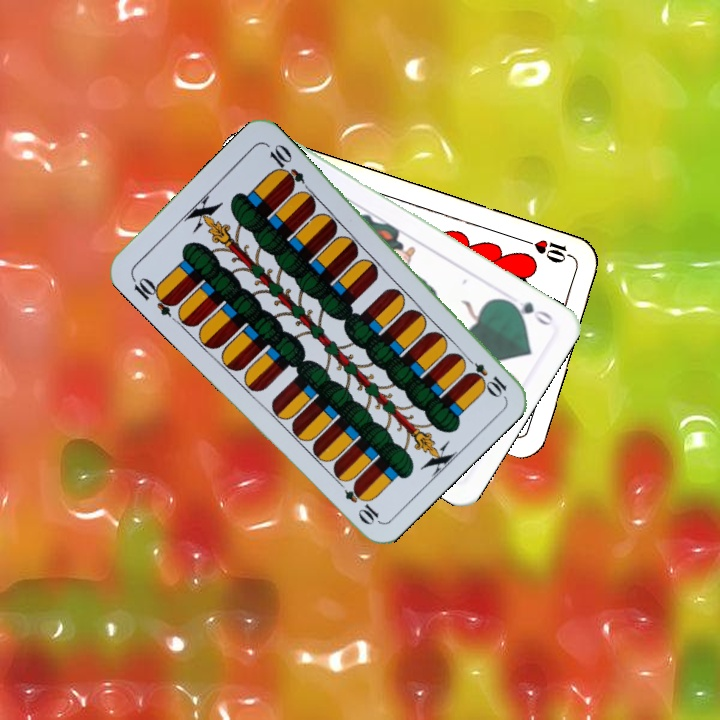E10: (127, 272, 180, 319), (459, 351, 510, 399)
GO: (501, 295, 556, 329)
H10: (520, 235, 578, 266)
